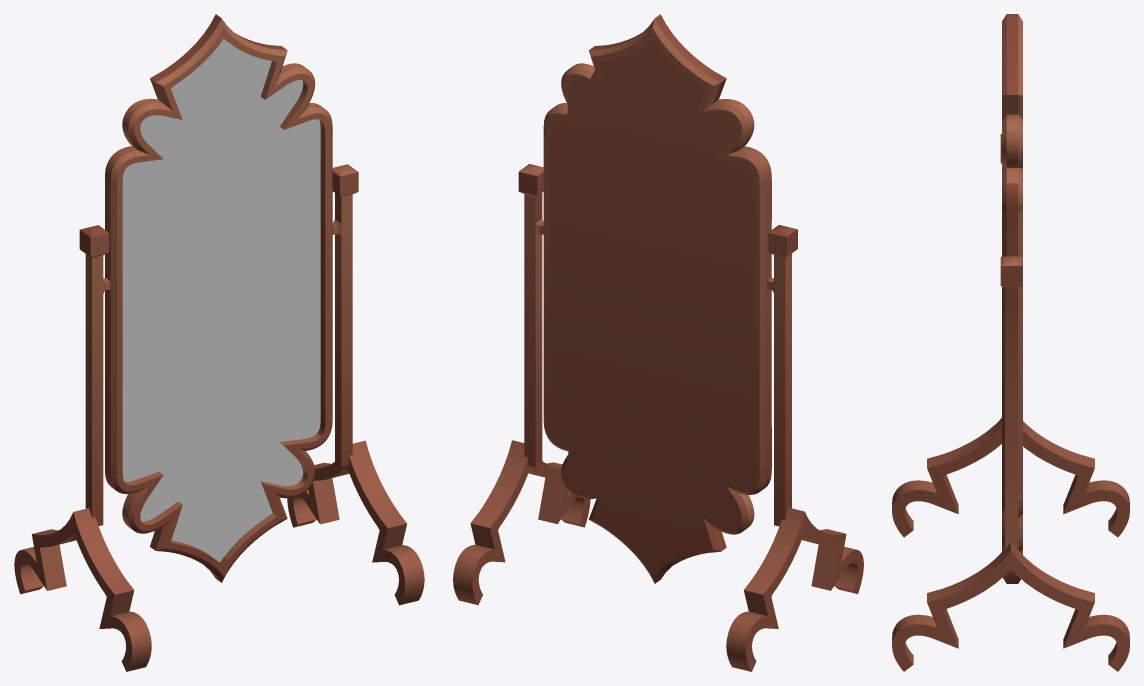
Rendered from Mirror.obj.
3 views of the same model, side by side, from view 1: azimuth 30°, elevation 25°; view 2: azimuth 150°, elevation 25°; view 3: azimuth 270°, elevation 25° (orthographic).
Visible parts, largest first — view 1: Spiegel, Holz; view 2: Holz; view 3: Holz.
Boxes of the visible parts, x1,y1,x2,y2 form: Spiegel: (122,39,320,562); Holz: (14,14,424,671); Holz: (453,14,863,671); Holz: (892,14,1129,671).
Bounding box in the file's own units: 2.99 × 5.67 × 2.09.
Materials: 2 (1 with a texture image).
